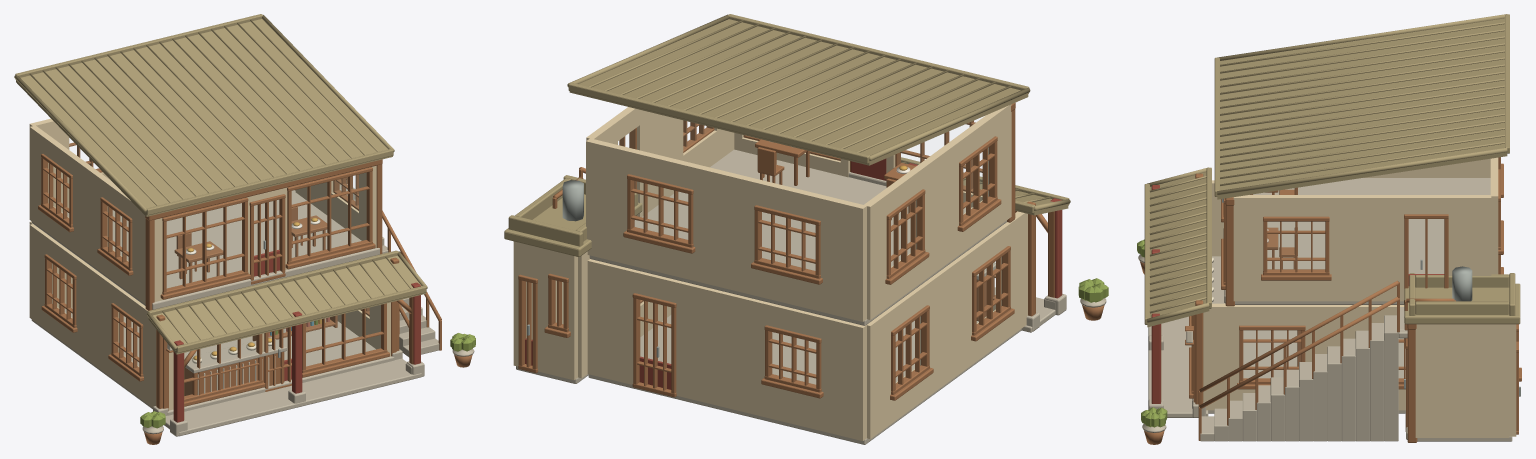
The model's file is 07-A-7368fdf1dfd8.glb.
3 views of the same model, side by side, from view 1: azimuth 30°, elevation 25°; view 2: azimuth 150°, elevation 25°; view 3: azimuth 270°, elevation 25° (orthographic). The views are drawn at different scales.
Visible parts, largest first — view 1: SM_07_02_曲面屋顶, SM_07_01_建筑墙体, SM_07_04_门窗楼梯, SM_07_03_木构回廊, SM_07_06_景观设施, SM_07_05_景观植物; view 2: SM_07_01_建筑墙体, SM_07_02_曲面屋顶, SM_07_04_门窗楼梯, SM_07_03_木构回廊, SM_07_06_景观设施, SM_07_05_景观植物; view 3: SM_07_02_曲面屋顶, SM_07_01_建筑墙体, SM_07_04_门窗楼梯, SM_07_03_木构回廊, SM_07_06_景观设施, SM_07_05_景观植物.
Boxes of the visible parts, <box> form: SM_07_02_曲面屋顶: <box>14,14,427,354</box>; SM_07_01_建筑墙体: <box>29,118,421,436</box>; SM_07_04_门窗楼梯: <box>38,142,441,406</box>; SM_07_03_木构回廊: <box>145,159,424,436</box>; SM_07_06_景观设施: <box>174,206,337,403</box>; SM_07_05_景观植物: <box>140,333,475,444</box>; SM_07_01_建筑墙体: <box>513,104,1055,444</box>; SM_07_02_曲面屋顶: <box>504,14,1070,256</box>; SM_07_04_门窗楼梯: <box>518,120,1014,400</box>; SM_07_03_木构回廊: <box>636,102,1066,331</box>; SM_07_06_景观设施: <box>755,139,995,321</box>; SM_07_05_景观植物: <box>1078,278,1108,320</box>; SM_07_02_曲面屋顶: <box>1144,14,1520,327</box>; SM_07_01_建筑墙体: <box>1148,157,1516,441</box>; SM_07_04_门窗楼梯: <box>1185,157,1521,441</box>; SM_07_03_木构回廊: <box>1148,173,1417,442</box>; SM_07_06_景观设施: <box>1212,187,1301,366</box>; SM_07_05_景观植物: <box>1137,239,1167,444</box>.
Bounding box in the file's own units: 10.72 × 7.49 × 9.61.
